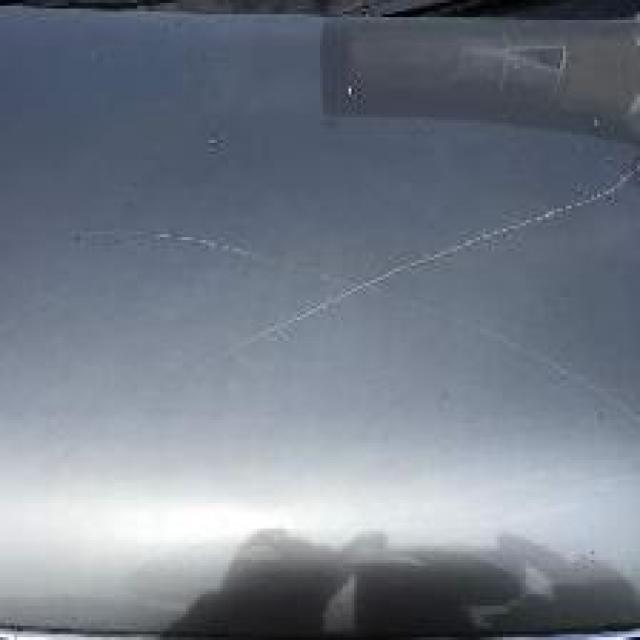damaged: (68, 168, 638, 386)
